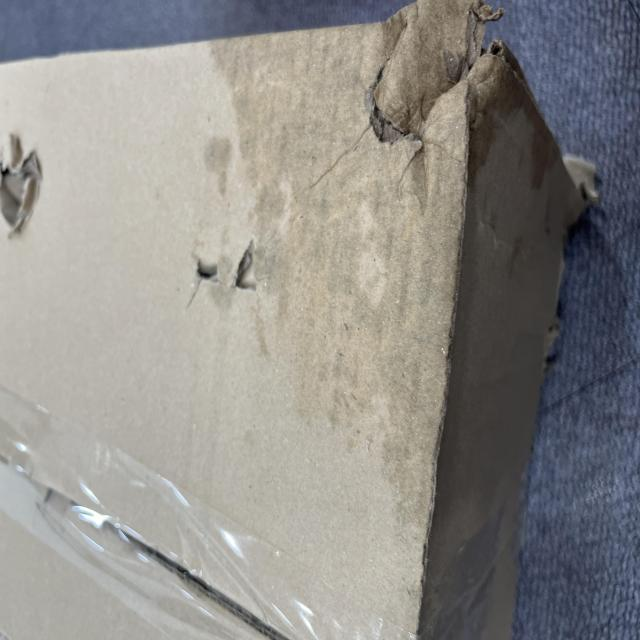wet: (188, 296, 480, 640)
